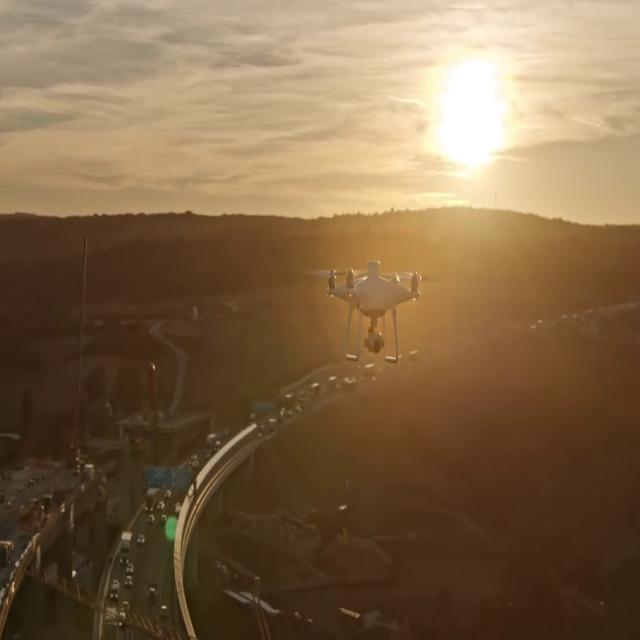drone: (308, 255, 430, 367)
